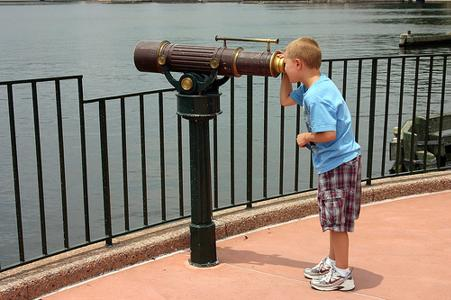person: (276, 39, 365, 292)
